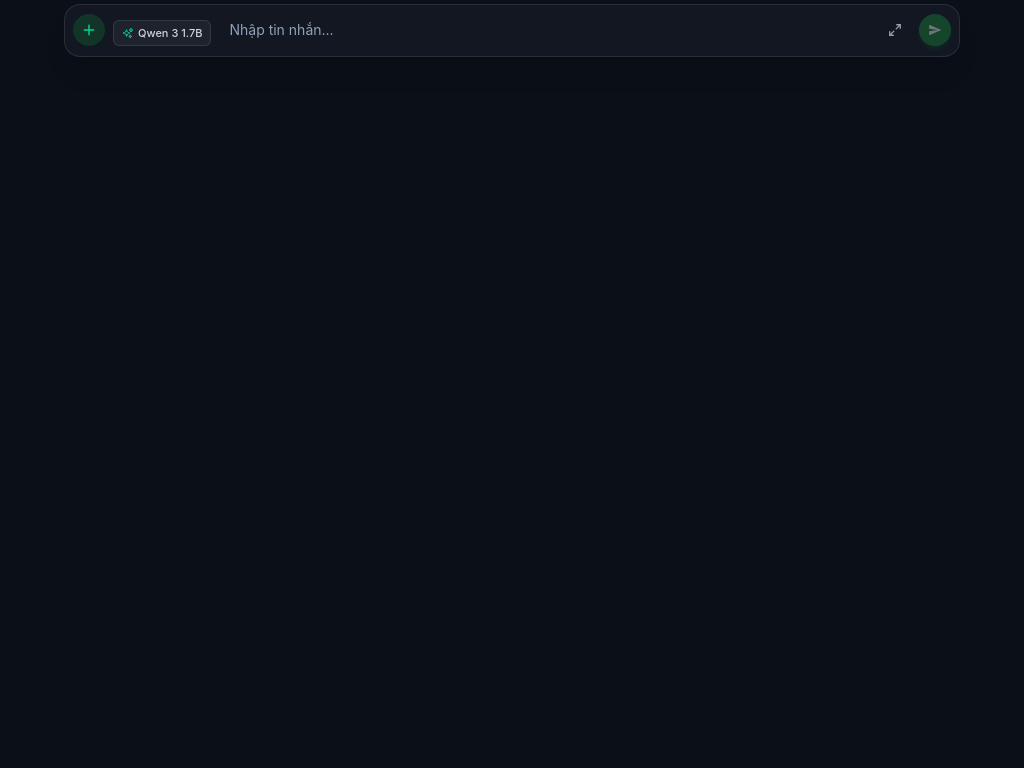
it: ChatInput › should open ExpandedEditorModal when Expand button is clicked and synchronize draft
In the text box with placeholder "Nhập tin nhắn...": (545,30) [220, 13, 871, 48], type "Draft before expand"
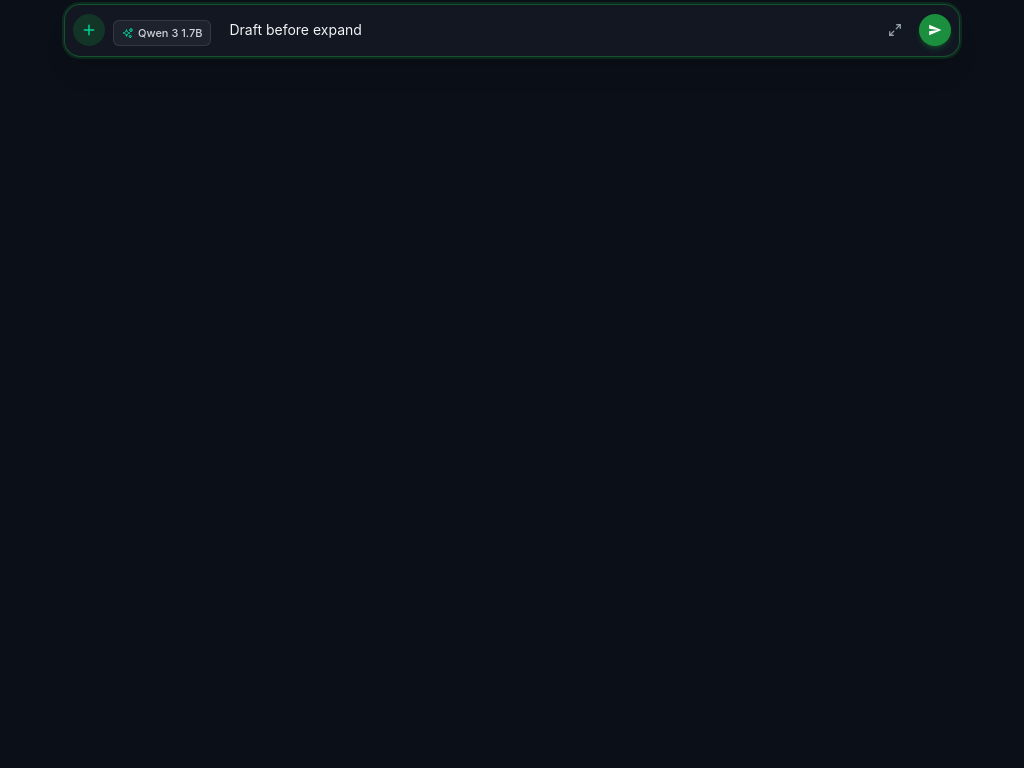
Click the button titled "Mở rộng trình soạn thảo": (895,30) [879, 14, 911, 46]
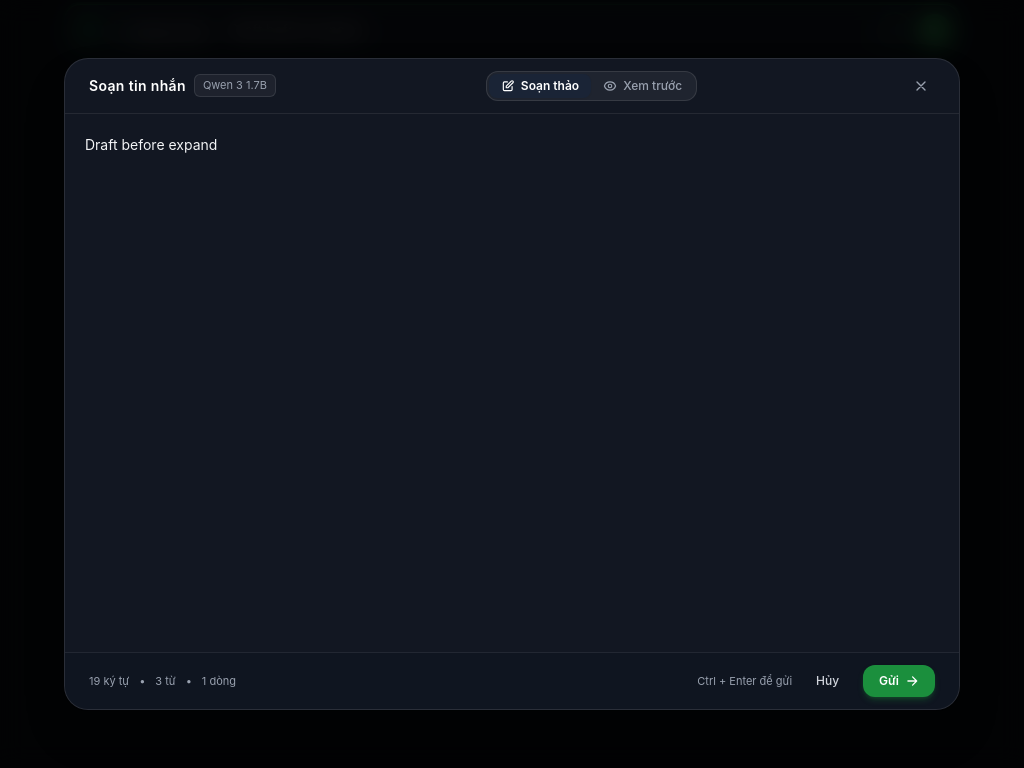
Expected: the dialog is shown
Expected: the text "Soạn tin nhắn" is shown, [89, 76, 186, 96]
Expected: the text box with placeholder "Nhập nội dung tin nhắn chi tiết, đoạn mã, hoặc tài liệu..." holds "Draft before expand"
Modify inside modal
In the text box with placeholder "Nhập nội dung tin nhắn chi tiết, đoạn mã, hoặc tài liệu...": (512,383) [85, 134, 939, 632], type " and updated"
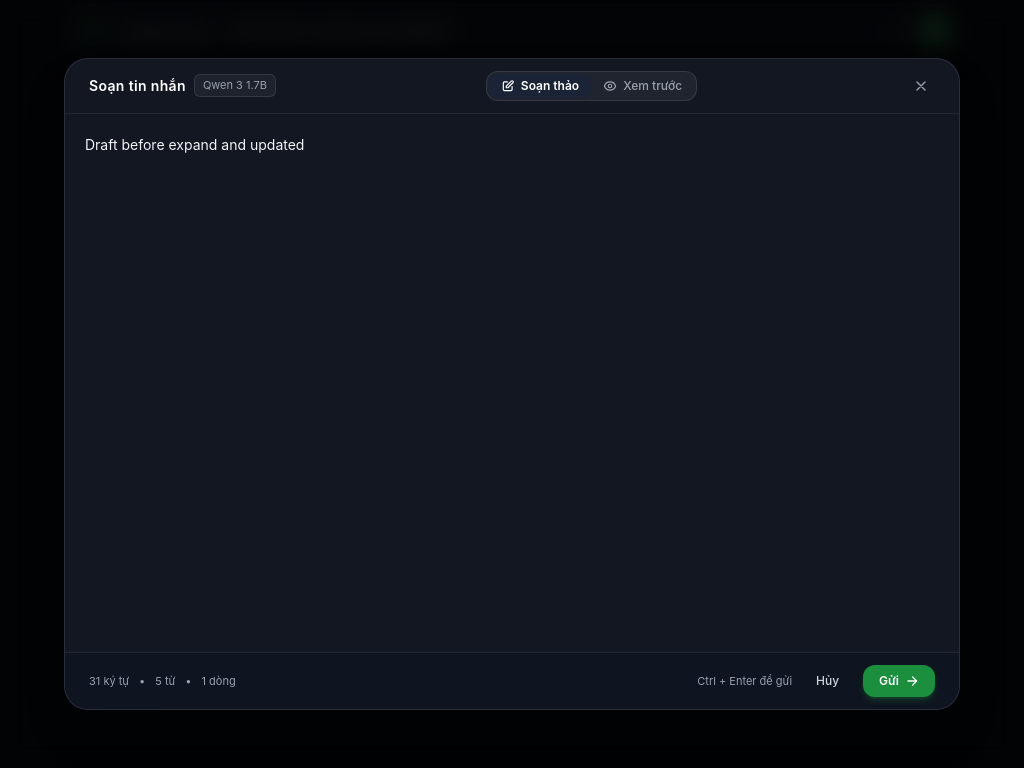
Close modal via close button
Click the button titled "Đóng (Esc)": (921,86) [907, 72, 935, 100]
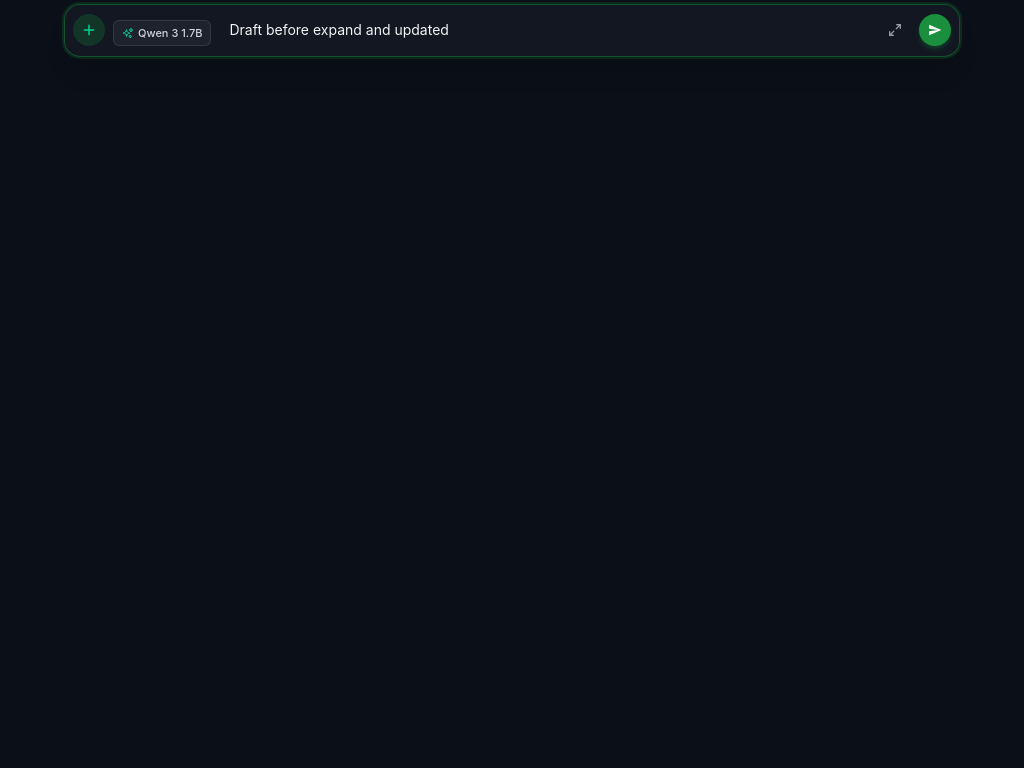
Expected: the text box with placeholder "Nhập tin nhắn..." holds "Draft before expand and updated", [220, 13, 871, 48]
Expected: the dialog is gone
